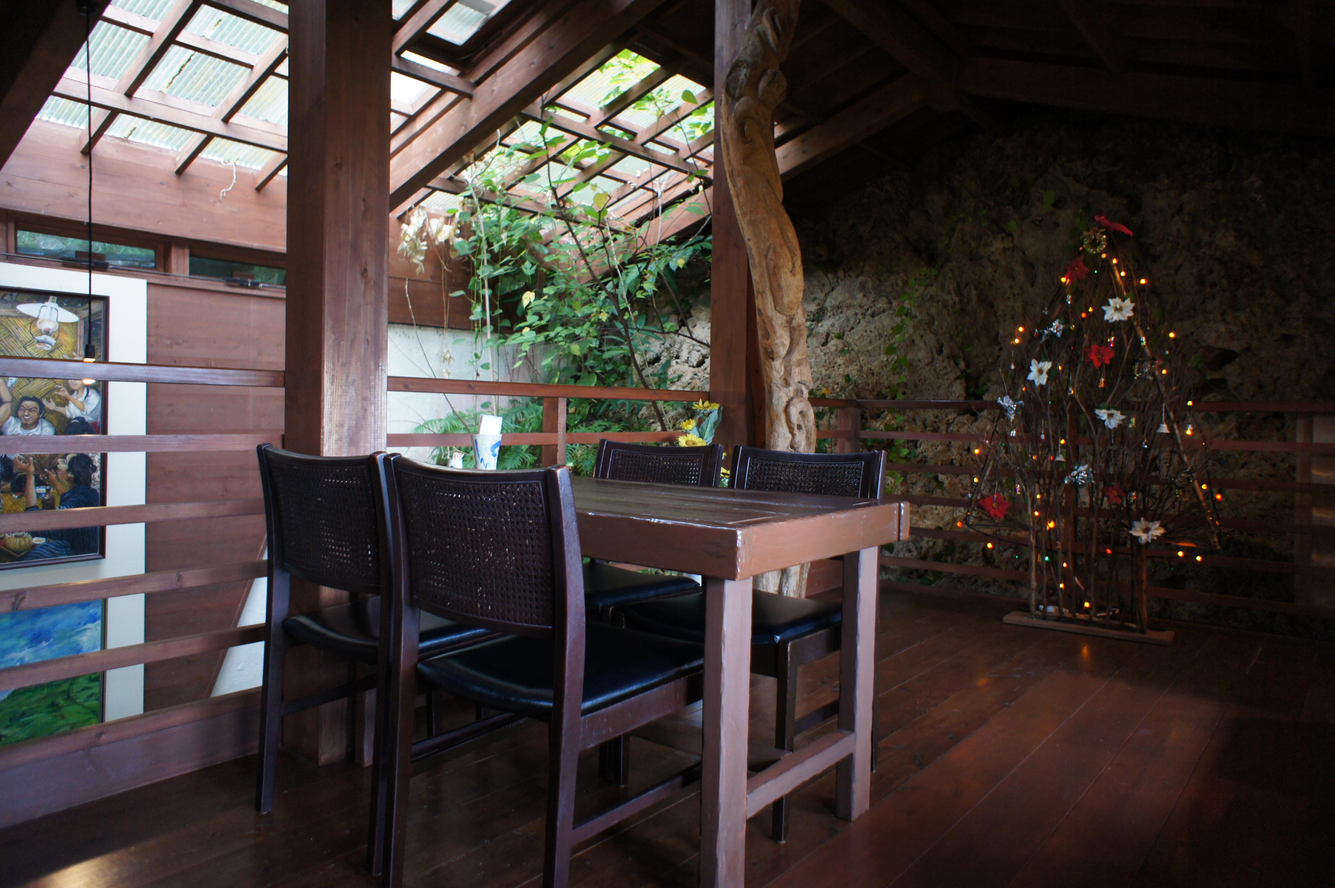Chair: (381, 451, 706, 887), (254, 441, 512, 877), (612, 444, 886, 844)
